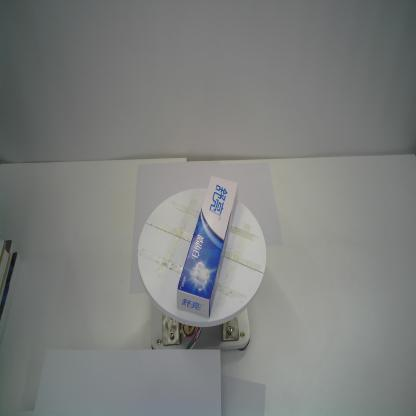Personal Hygiene: (176, 175, 238, 319)
